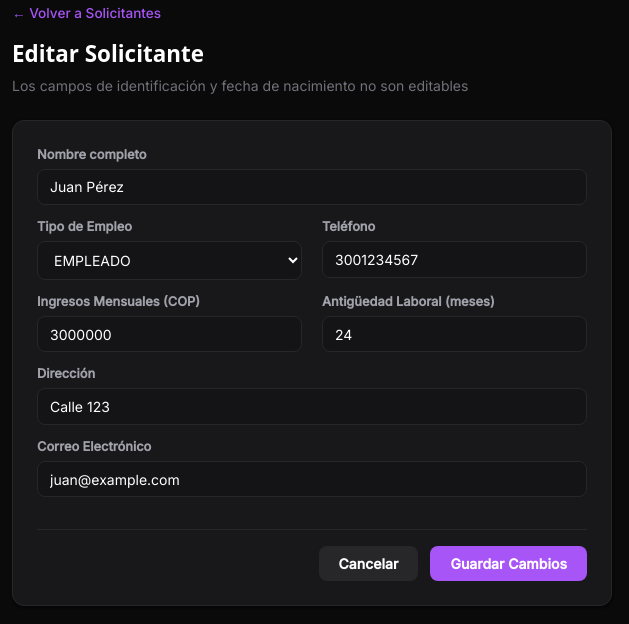
it: EditApplicant — saving state while submit is in-flight › shows .spinner inside the submit button while saving
Expected: the field showing "Juan Pérez" below "Nombre completo" is shown, top-left (37, 169), bottom-right (587, 205)
Click the button "Guardar Cambios". click: [509, 564]
box: top-left (430, 546), bottom-right (587, 581)
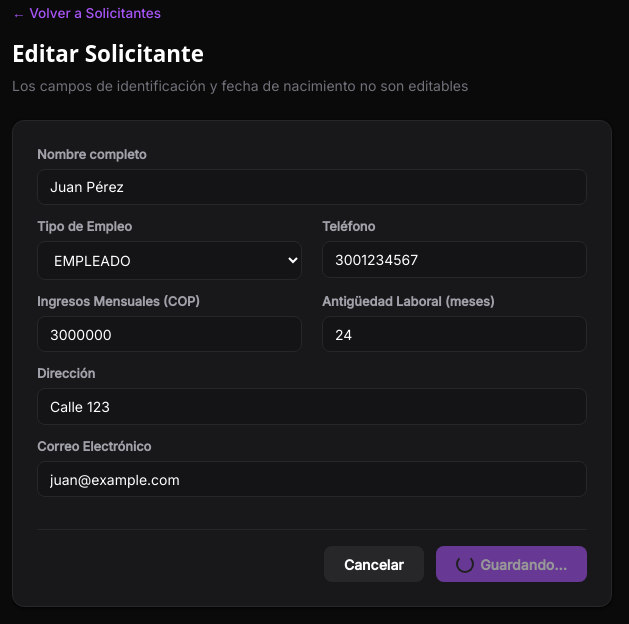
Expected: the element with class "spinner" is shown, top-left (456, 555), bottom-right (474, 573)
